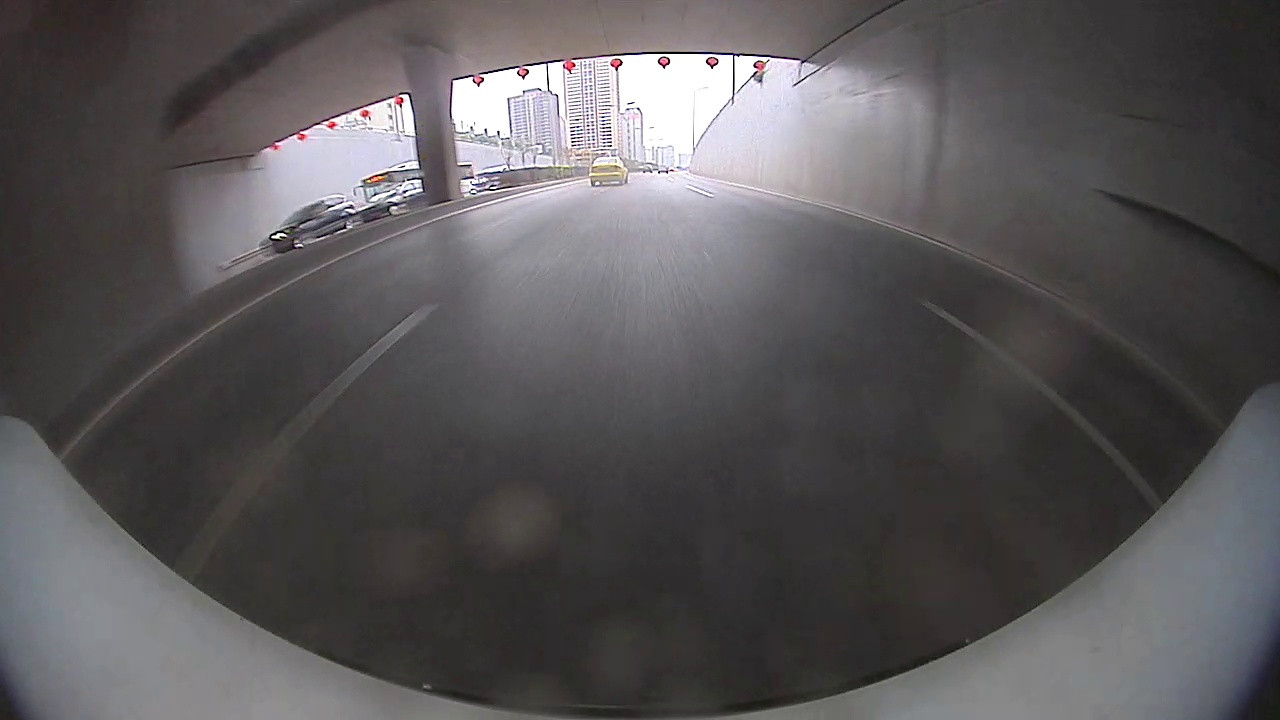bus: (351, 156, 424, 199), (456, 159, 478, 196)
car: (257, 193, 365, 261), (358, 175, 427, 225), (587, 154, 631, 188)
